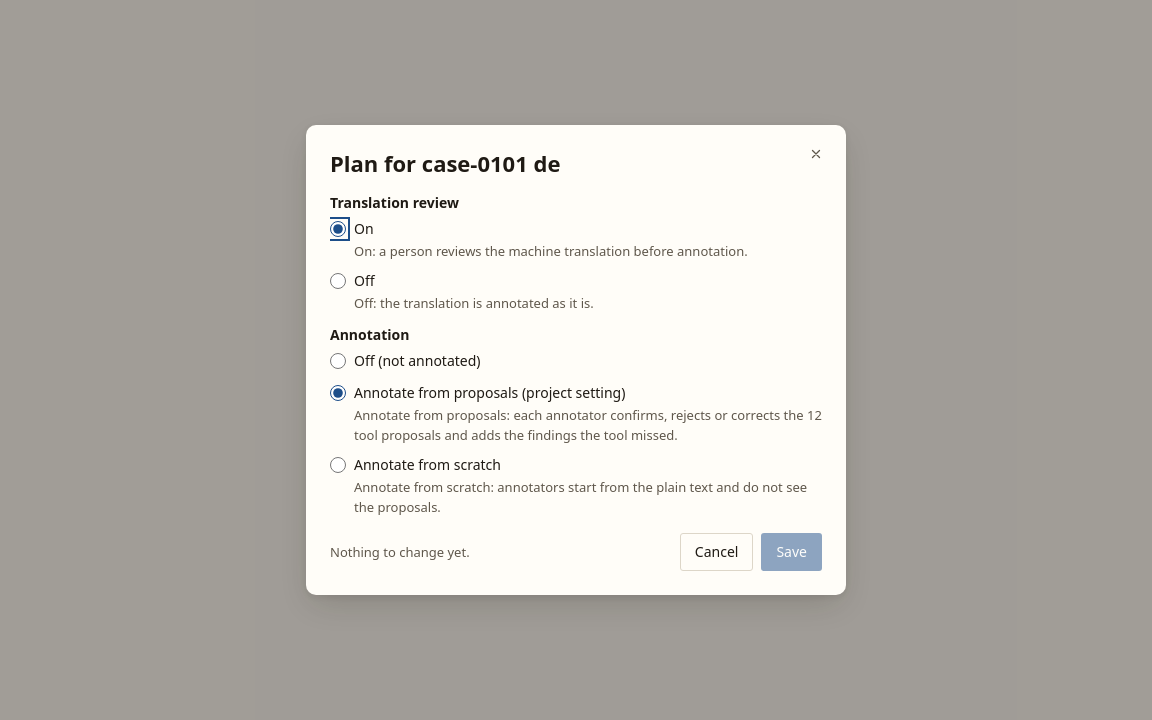
Test: TextPlanDialog › saves the flags and the changed mode in one request and shows the Undo toast
Expected: the dialog "Plan for case-0101 de" is shown, [306,125,846,595]
Click the radio button labelled "Off" at (338, 281), box [330,273,346,289]
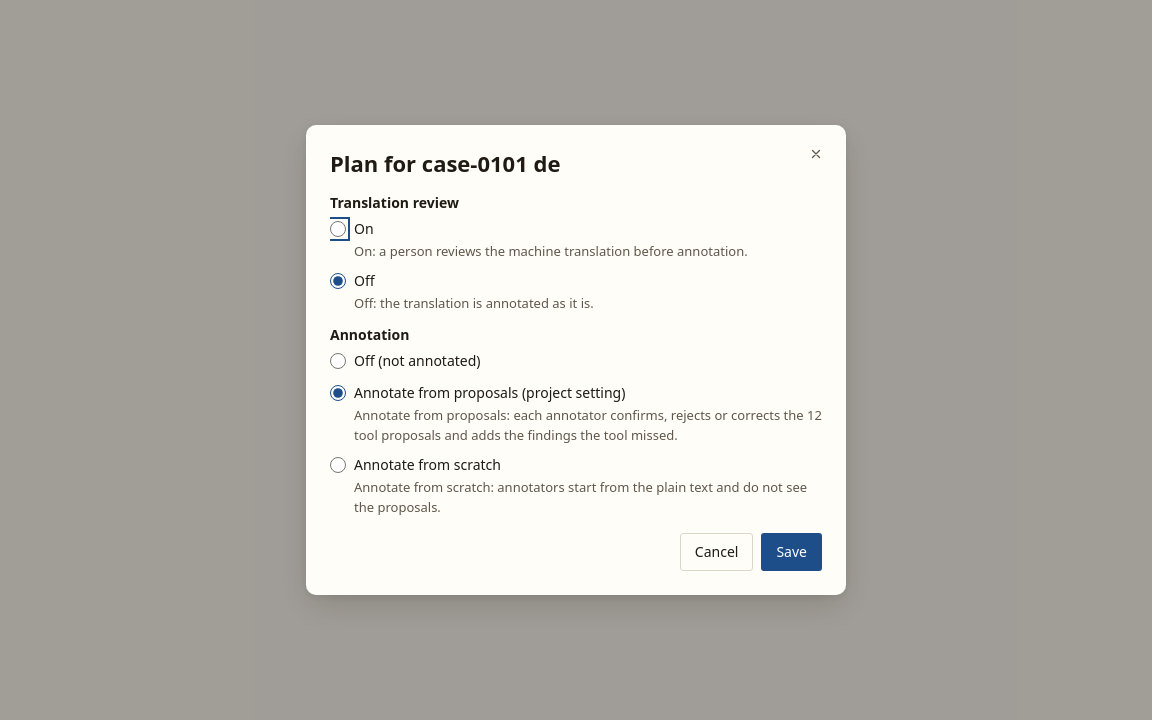
Click the radio button labelled "Annotate from scratch" at (338, 465), box [330,457,346,473]
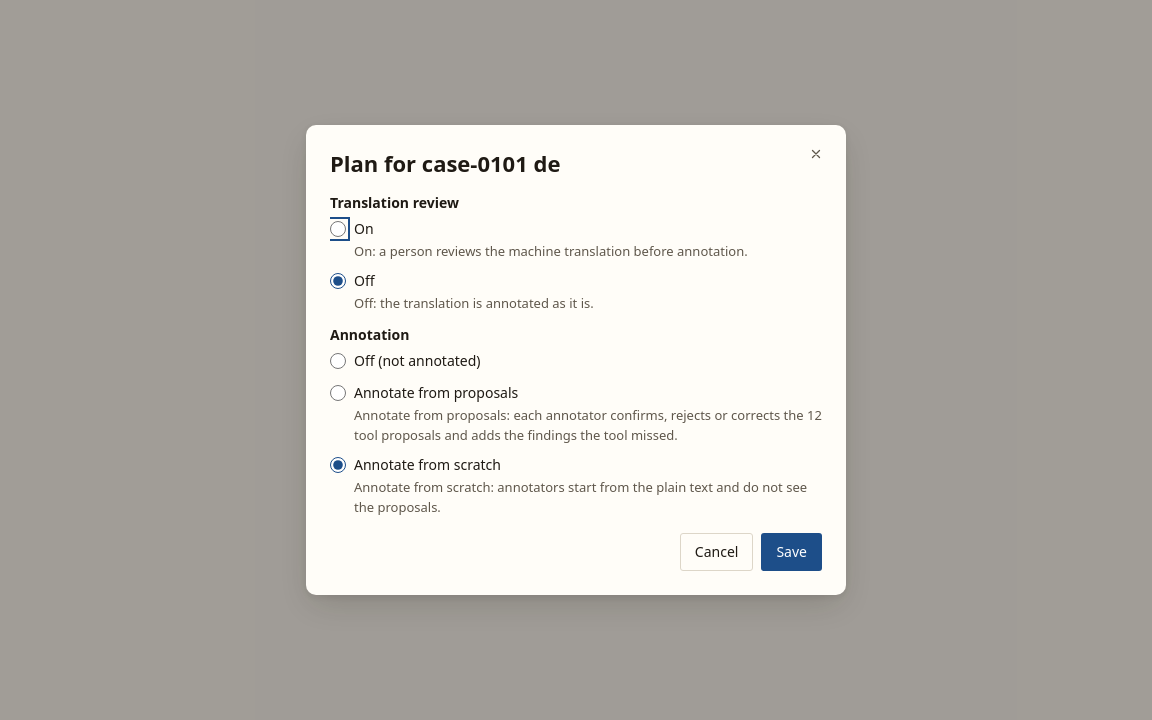
Click the button "Save" at (792, 552), box [761,533,822,571]
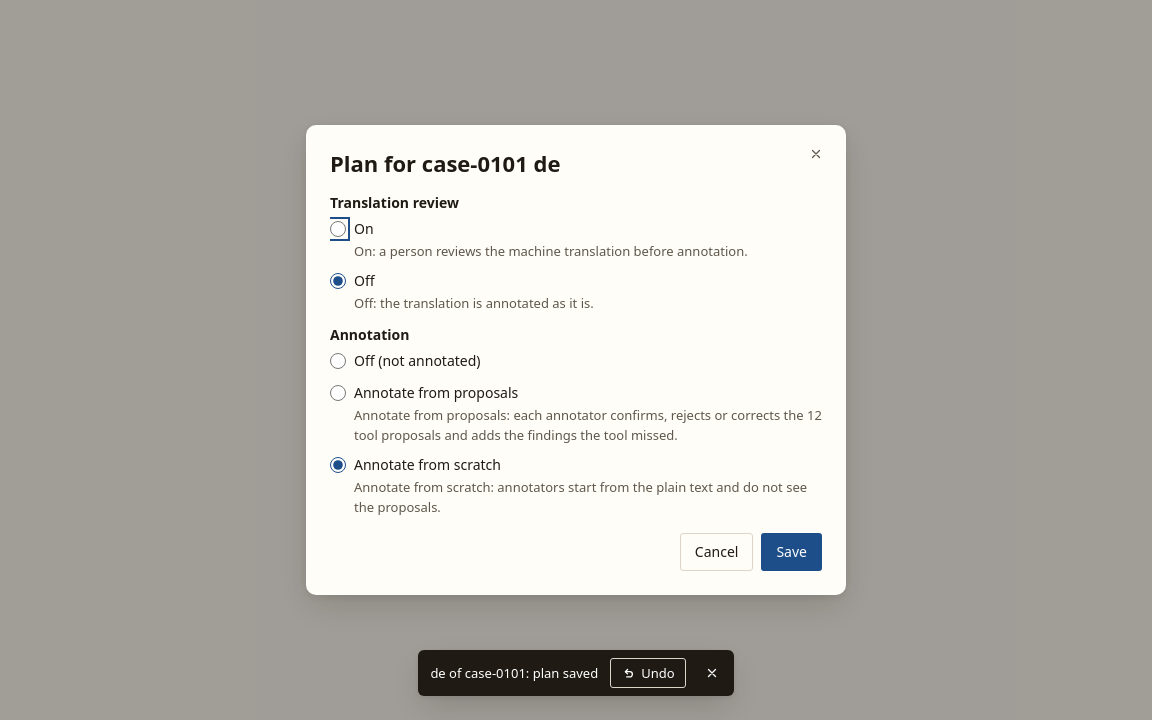
Expected: the text "de of case-0101: plan saved" is shown, [430,664,598,682]
